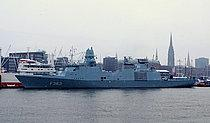MIL_Ship: (14, 47, 196, 89)
